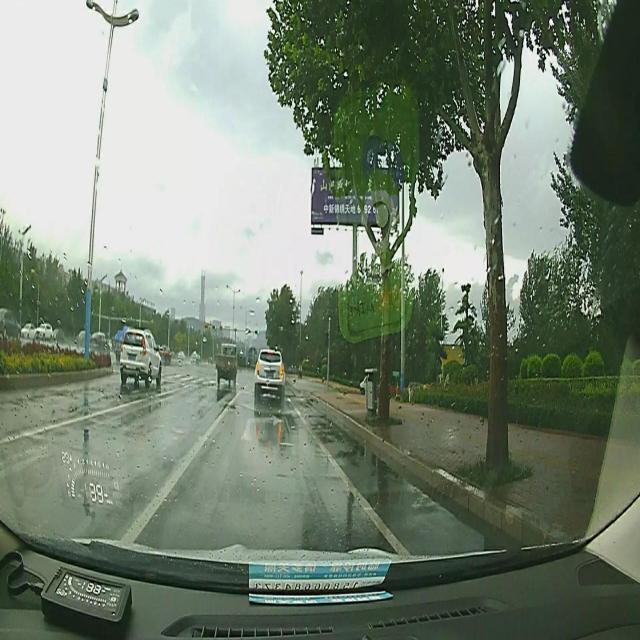car: (120, 328, 162, 387), (253, 349, 286, 401), (0, 305, 21, 340), (90, 333, 110, 352), (36, 320, 52, 340), (158, 343, 172, 363), (53, 325, 66, 342), (22, 323, 36, 336), (178, 350, 185, 360), (191, 352, 197, 360)
